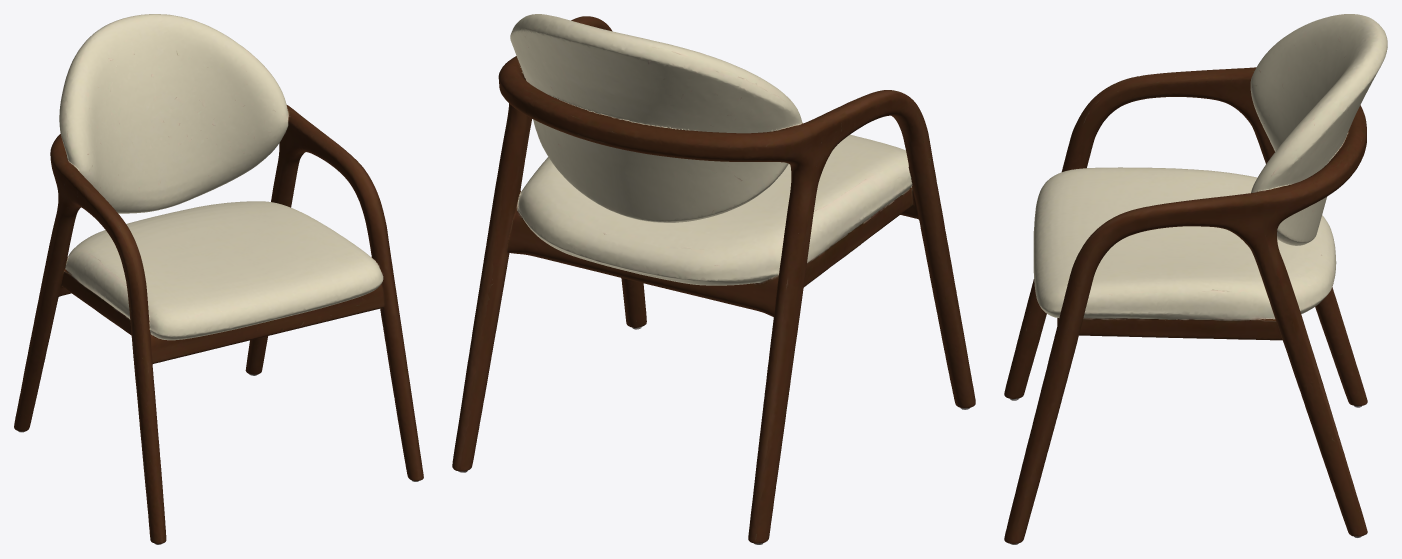
File: chair2.glb
3 renders of one model, left to right at view 1: azimuth 30°, elevation 25°; view 2: azimuth 150°, elevation 25°; view 3: azimuth 270°, elevation 25°, orthographic. The views are drawn at different scales.
Parts seen in each view (by area): view 1: world; view 2: world; view 3: world.
Boxes of the visible parts, x1,y1,x2,y2 form: world: (14,14,423,544); world: (452,14,975,544); world: (1004,14,1387,544).
Bounding box in the file's own units: 0.751 × 1 × 0.7988.
Materials: 1 (1 with a texture image).
